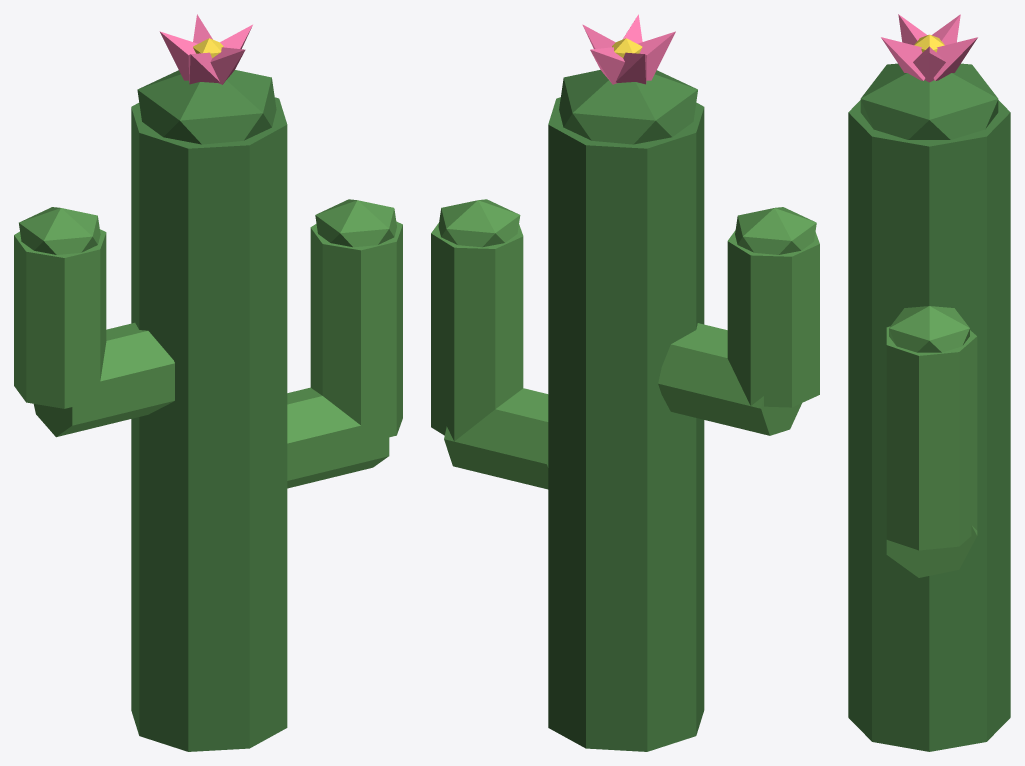
Rendered from cacto.glb.
3 renders of one model, left to right at view 1: azimuth 30°, elevation 25°; view 2: azimuth 150°, elevation 25°; view 3: azimuth 270°, elevation 25°, orthographic.
Visible parts, largest first — view 1: tronco, braco_v_1, braco_v_-1, braco_h_-1, topo, braco_h_1, braco_topo_1, braco_topo_-1, petala_2, petala_3, petala_4; view 2: tronco, braco_v_1, braco_v_-1, topo, braco_h_-1, braco_h_1, braco_topo_1, braco_topo_-1, petala_3, petala_2, petala_1; view 3: tronco, braco_v_1, topo, braco_topo_1, braco_h_1, petala_1, petala_4, petala_0, petala_2, petala_3, miolo.
Part boxes in pixels (<box>): tronco: <box>131,97,287,751</box>; braco_v_1: <box>310,221,402,437</box>; braco_v_-1: <box>14,229,106,408</box>; braco_h_-1: <box>33,322,174,437</box>; topo: <box>137,70,276,144</box>; braco_h_1: <box>287,387,389,488</box>; braco_topo_1: <box>315,199,396,247</box>; braco_topo_-1: <box>19,207,100,254</box>; petala_2: <box>159,31,197,80</box>; petala_3: <box>188,52,219,84</box>; petala_4: <box>210,47,245,84</box>; tronco: <box>548,97,704,751</box>; braco_v_1: <box>431,223,523,441</box>; braco_v_-1: <box>727,230,819,407</box>; topo: <box>559,70,697,144</box>; braco_h_-1: <box>658,323,801,435</box>; braco_h_1: <box>444,388,548,489</box>; braco_topo_1: <box>438,199,520,247</box>; braco_topo_-1: <box>735,207,816,254</box>; petala_3: <box>637,31,675,80</box>; petala_2: <box>616,52,646,84</box>; petala_1: <box>590,47,624,84</box>; tronco: <box>848,100,1010,751</box>; braco_v_1: <box>886,326,977,550</box>; topo: <box>860,63,998,139</box>; braco_topo_1: <box>889,306,969,352</box>; braco_h_1: <box>886,525,977,577</box>; petala_1: <box>933,37,977,80</box>; petala_4: <box>881,37,925,80</box>; petala_0: <box>913,46,945,82</box>; petala_2: <box>932,14,960,45</box>; petala_3: <box>898,14,926,45</box>; miolo: <box>914,34,944,52</box>.
Size of the model in its own units: 0.915 by 1.59 by 0.34.
